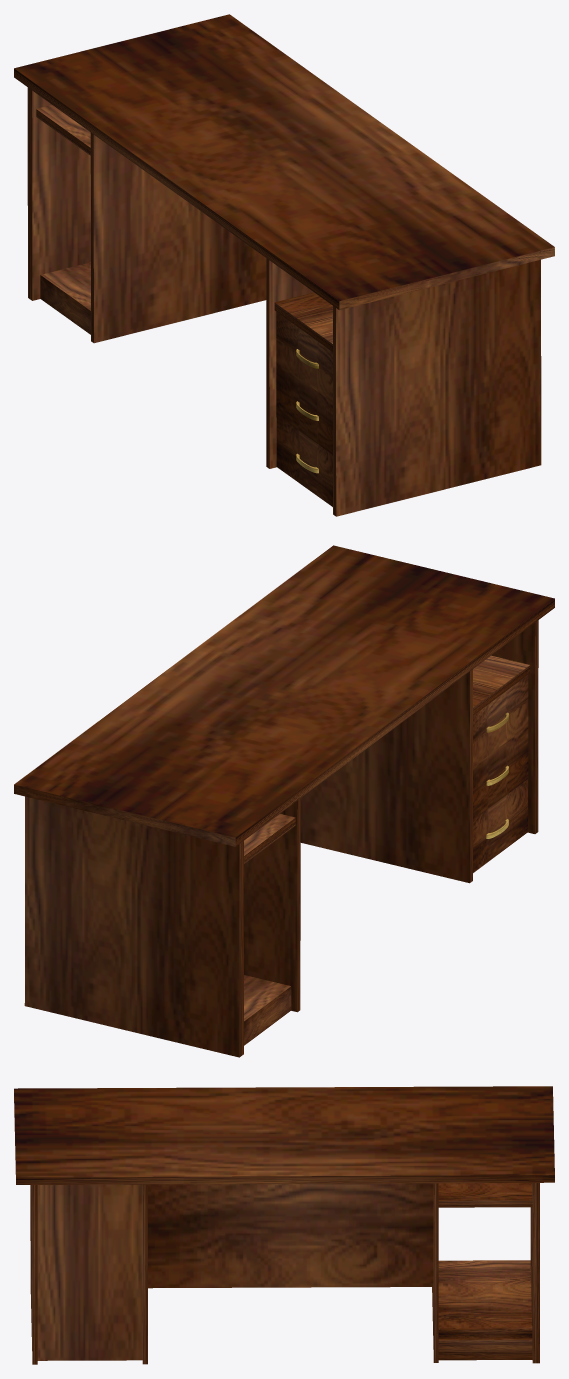
Rendered from object_4.002_lev1.glb.
The picture shows the model from 3 angles, top to bottom: view 1: azimuth 30°, elevation 25°; view 2: azimuth 150°, elevation 25°; view 3: azimuth 270°, elevation 25°; orthographic projection. The views are drawn at different scales.
Visible parts, largest first — view 1: object_4.002_lev1; view 2: object_4.002_lev1; view 3: object_4.002_lev1.
Boxes of the visible parts, x1,y1,x2,y2 form: object_4.002_lev1: (14, 14, 554, 516); object_4.002_lev1: (14, 545, 554, 1057); object_4.002_lev1: (14, 1086, 554, 1364).
Bounding box in the file's own units: 2.16 × 2.08 × 5.39.
Materials: 1 (1 with a texture image).
